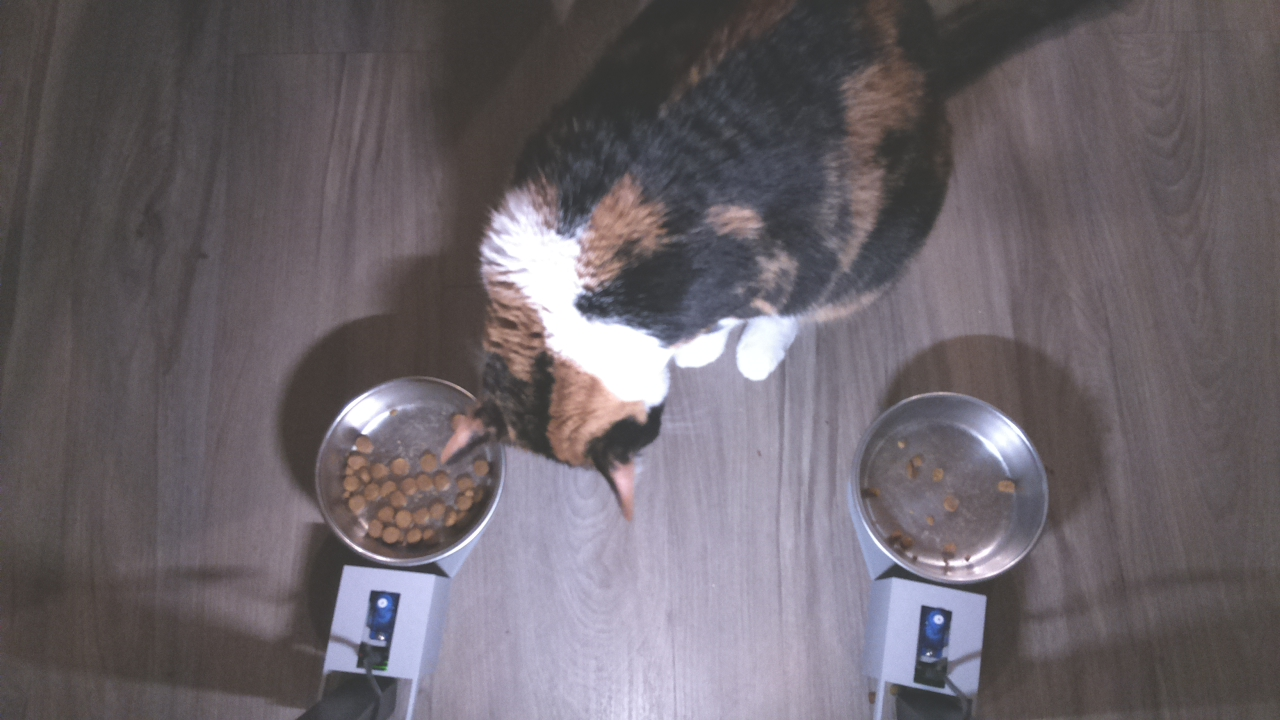bella: (444, 222, 679, 525)
open_bowl: (859, 384, 1052, 594), (307, 375, 501, 569)
